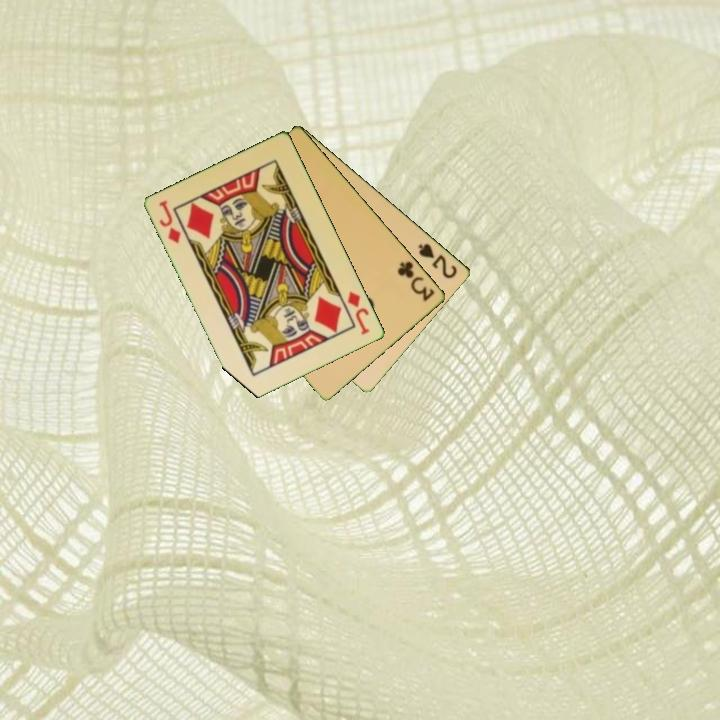2s: (415, 239, 461, 281)
3c: (394, 257, 438, 304)
Jd: (344, 288, 373, 338), (156, 197, 184, 247)
